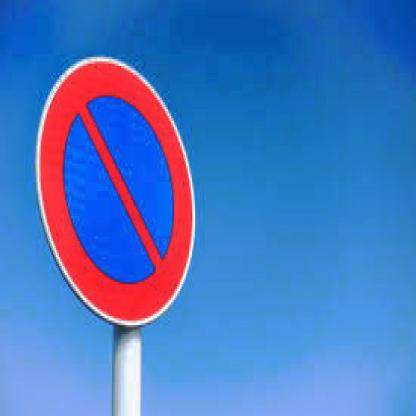No parking: (39, 48, 199, 332)
